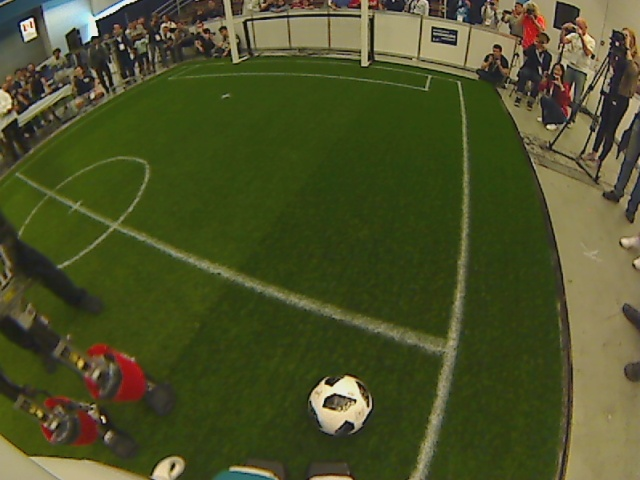ball: (305, 371, 374, 441)
